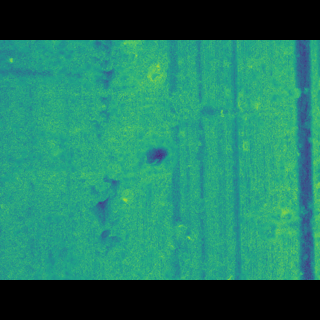Loch: (0, 70, 141, 251), (0, 68, 171, 115), (168, 86, 313, 132), (240, 186, 320, 221), (117, 140, 184, 177)
